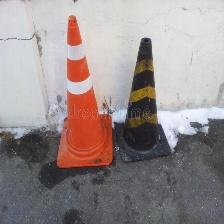traffic cone: (56, 14, 114, 169)
